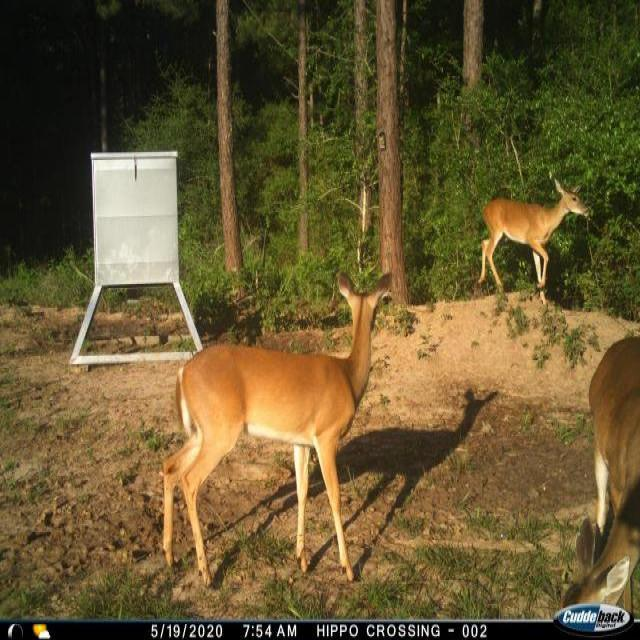deer: (158, 267, 398, 585), (552, 330, 639, 603), (476, 177, 591, 303)
